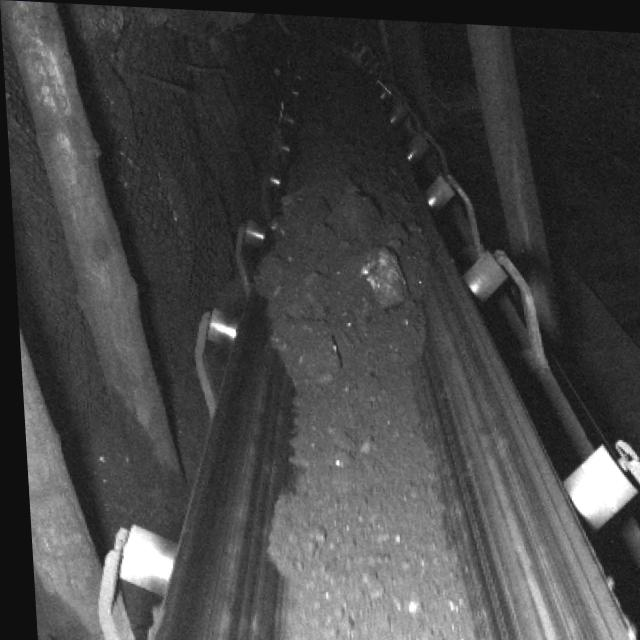large_sized_coal: (339, 243, 406, 317)
